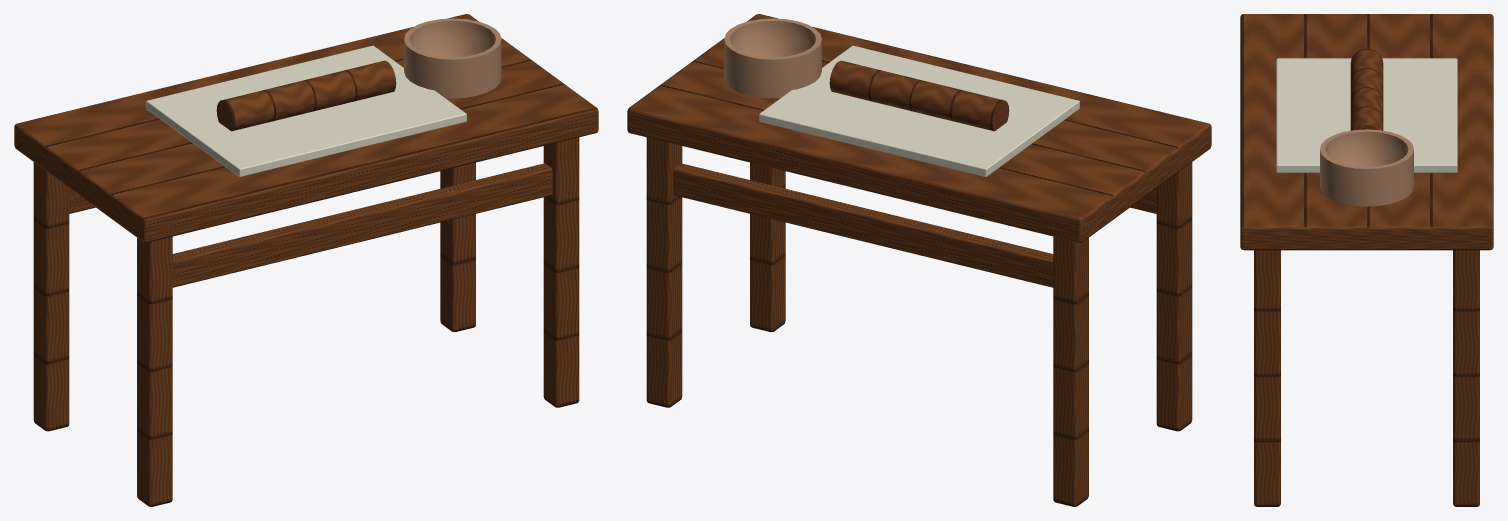
File: primitive-crafting-workshop-clay-working-table-e7b8bd05__21590.glb
The picture shows the model from 3 angles, left to right: view 1: azimuth 30°, elevation 25°; view 2: azimuth 150°, elevation 25°; view 3: azimuth 270°, elevation 25°; orthographic projection. The views are drawn at different scales.
Parts seen in each view (by area): view 1: clay-working-table; view 2: clay-working-table; view 3: clay-working-table.
Boxes of the visible parts, x1,y1,x2,y2 form: clay-working-table: (14,14,598,506); clay-working-table: (627,14,1211,506); clay-working-table: (1240,14,1493,506).
Size of the model in its own units: 1.4 by 0.995 by 0.7001.
3 materials, 1 textured.
